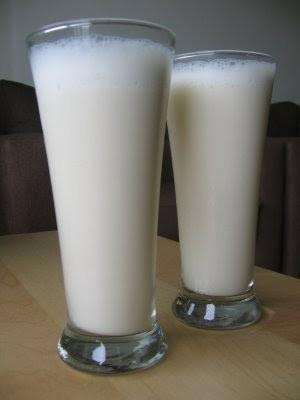Lassi: (27, 42, 171, 341), (142, 62, 279, 298)
